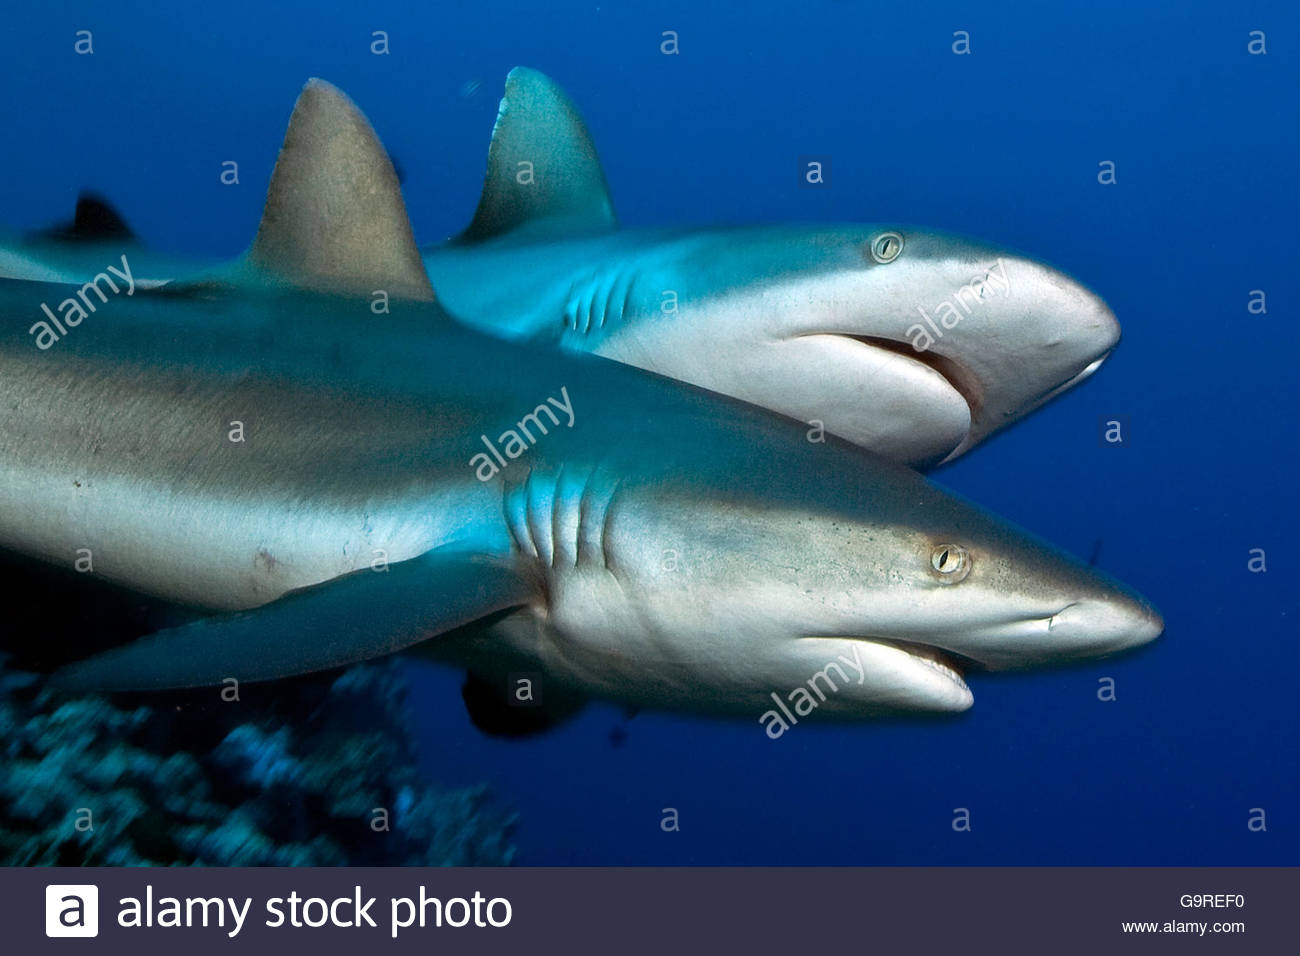Carcharhinus_amblyrhynchos: (1, 57, 1204, 743)
